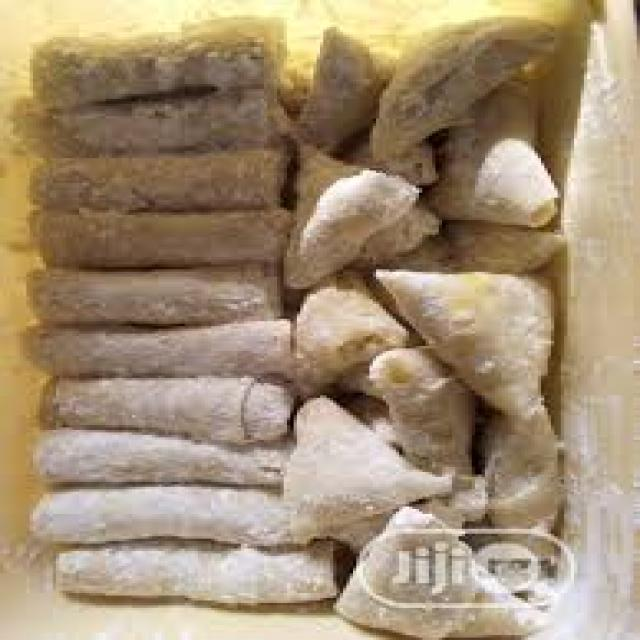Samosa: (307, 15, 567, 637)
Spring Rolls: (13, 7, 337, 593)
